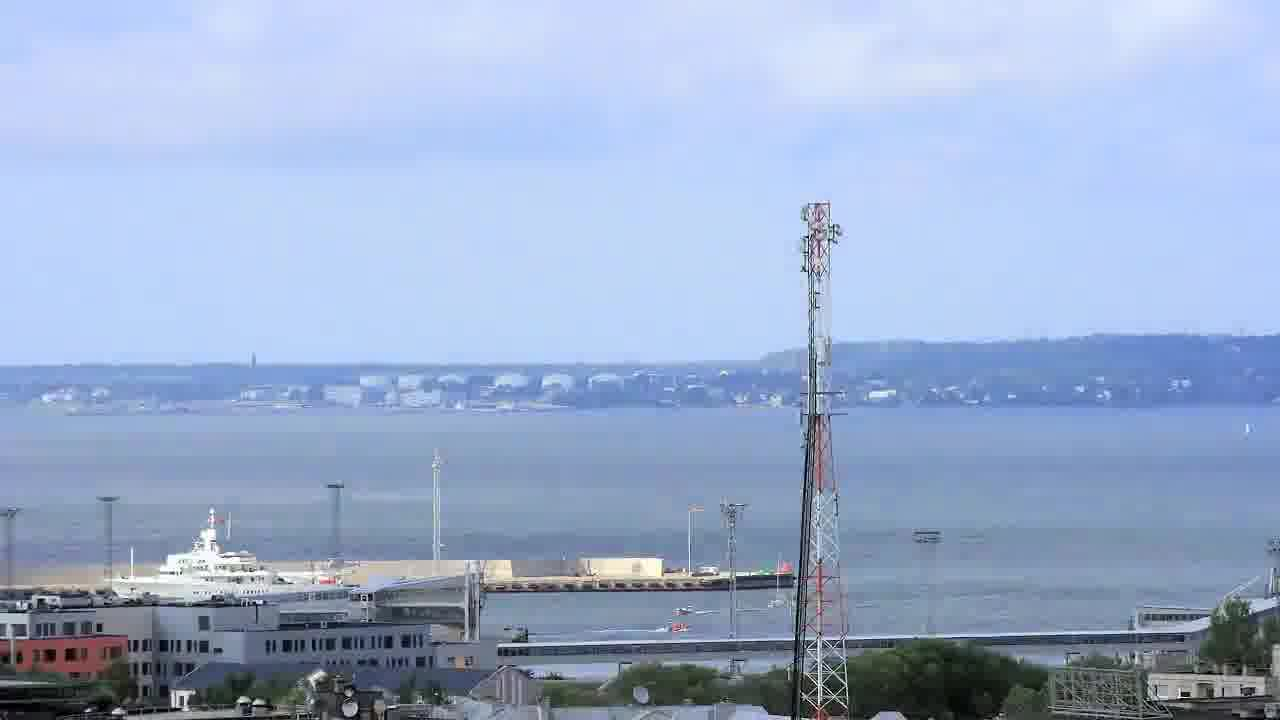type-0: (759, 573, 793, 622), (662, 599, 703, 631)
type-3: (72, 492, 370, 608)
